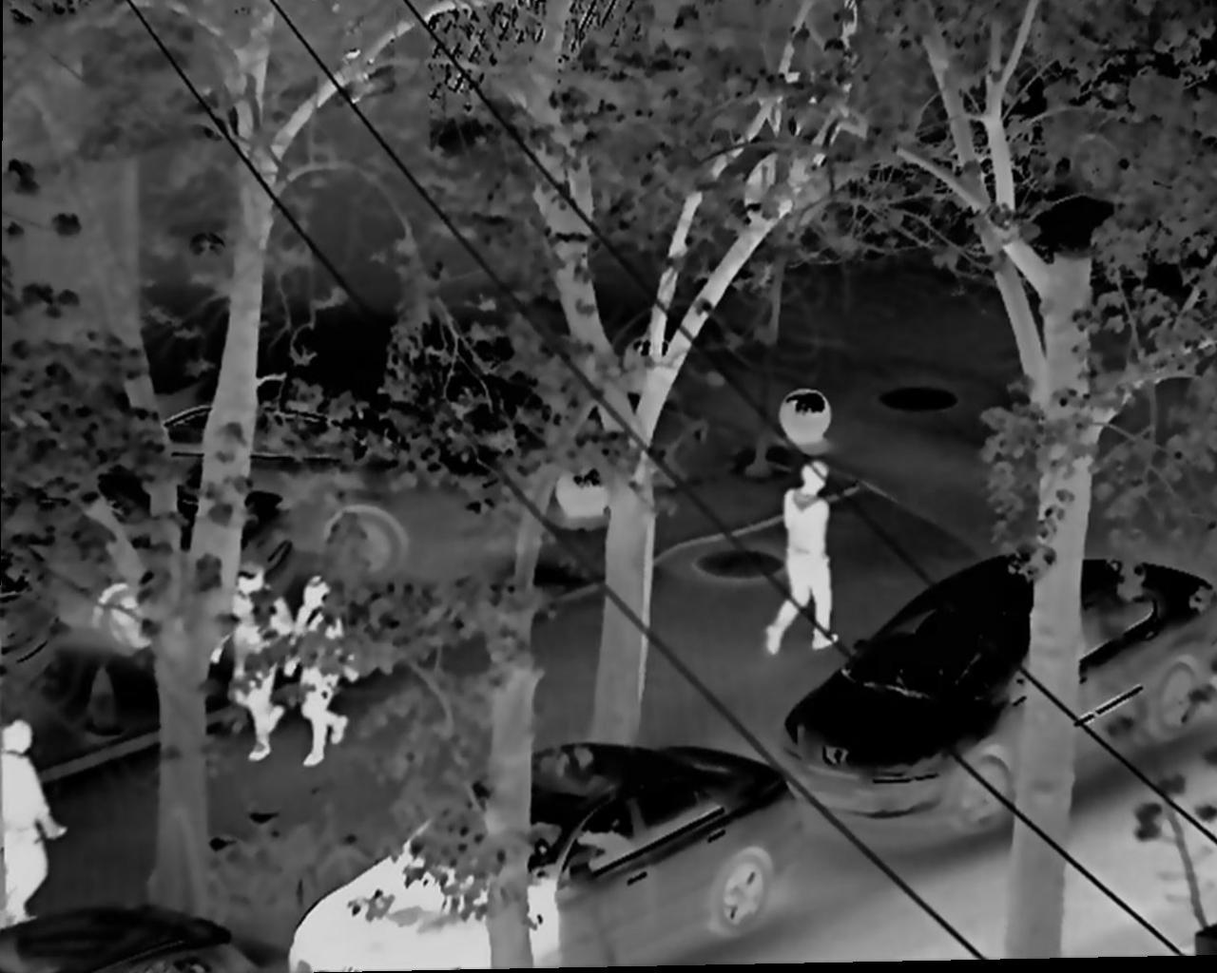person: (195, 561, 285, 770), (771, 452, 843, 658), (280, 576, 350, 775), (5, 718, 65, 924)
